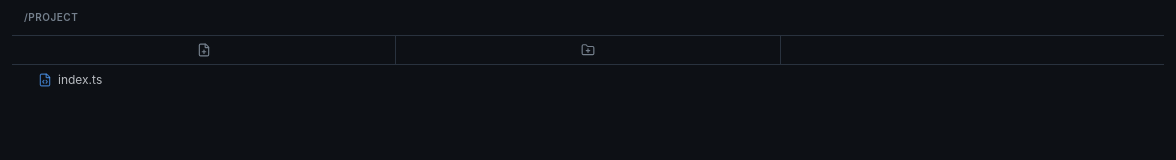
Test case: FileTree — context menu › shows context menu on right-click of a file node
The width and height of the screenshot is (1176, 160).
Right-click the button "index.ts" at (80, 80), box [12,69,1164,91]
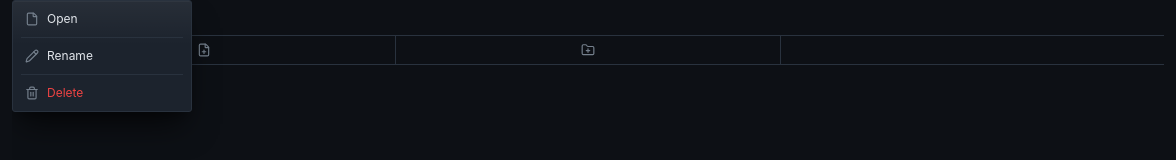
Expected: the text "Open" is shown, [47,11,78,26]
Expected: the text "Rename" is shown, [47,48,93,63]
Expected: the text "Delete" is shown, [47,85,83,100]
